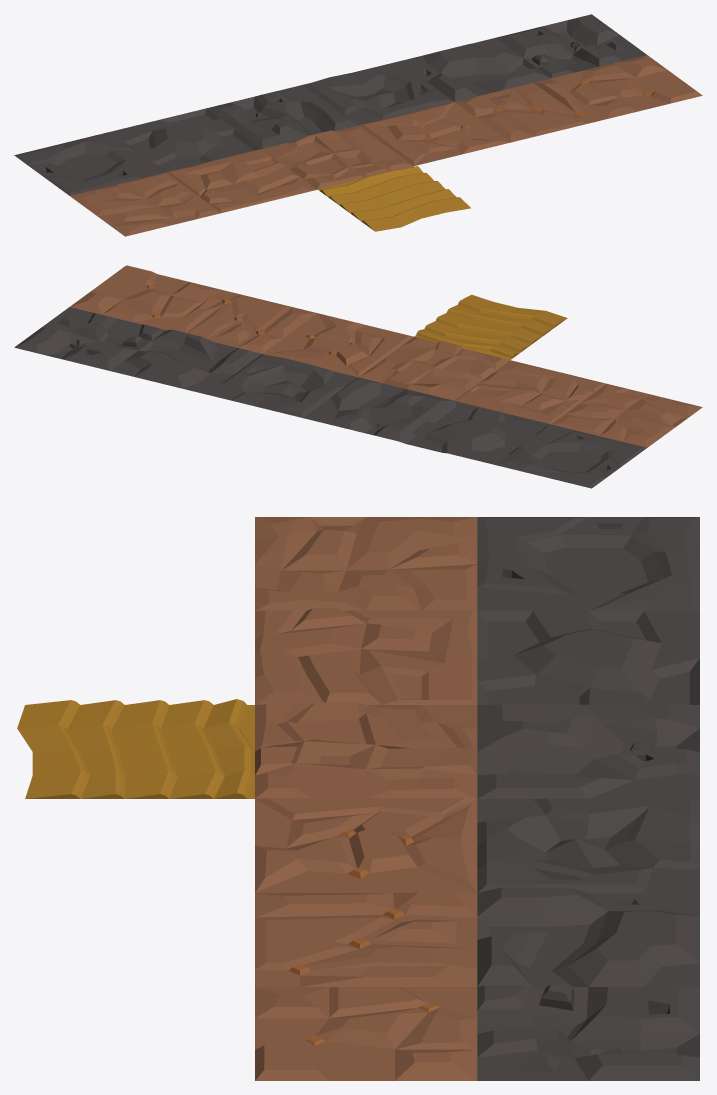
File: DirtRockSandFloors.fbx
3 views of the same model, one above another, from view 1: azimuth 30°, elevation 25°; view 2: azimuth 150°, elevation 25°; view 3: azimuth 270°, elevation 25° (orthographic). The views are drawn at different scales.
Parts seen in each view (by area): view 1: FloorSand01, FloorRock3, FloorDirt2, FloorDirt4, FloorDirt5, FloorRock2, FloorDirt6, FloorRock1, FloorRock6, FloorDirt3, FloorRock5, FloorDirt1 (+1 smaller); view 2: FloorSand01, FloorRock2, FloorRock3, FloorDirt4, FloorRock5, FloorDirt1, FloorRock1, FloorDirt5, FloorRock4, FloorDirt6, FloorRock6, FloorDirt3 (+1 smaller); view 3: FloorSand01, FloorRock2, FloorDirt4, FloorDirt3, FloorRock4, FloorRock1, FloorDirt5, FloorDirt2, FloorDirt1, FloorRock6, FloorRock5, FloorDirt6 (+1 smaller).
Part boxes in pixels (<box>): FloorSand01: <box>318,166,470,231</box>; FloorRock3: <box>303,61,454,125</box>; FloorDirt2: <box>455,78,606,142</box>; FloorDirt4: <box>262,125,413,189</box>; FloorDirt5: <box>166,149,317,212</box>; FloorRock2: <box>399,38,550,101</box>; FloorDirt6: <box>70,172,220,236</box>; FloorRock1: <box>496,14,646,78</box>; FloorRock6: <box>14,132,165,195</box>; FloorDirt3: <box>359,102,509,165</box>; FloorRock5: <box>110,108,261,172</box>; FloorDirt1: <box>551,55,702,118</box>; FloorSand01: <box>414,294,567,359</box>; FloorRock2: <box>110,329,261,394</box>; FloorRock3: <box>207,354,357,417</box>; FloorDirt4: <box>359,336,509,400</box>; FloorRock5: <box>399,401,550,464</box>; FloorDirt1: <box>70,265,220,330</box>; FloorRock1: <box>14,307,165,370</box>; FloorDirt5: <box>455,360,606,424</box>; FloorRock4: <box>303,377,453,441</box>; FloorDirt6: <box>551,384,702,447</box>; FloorRock6: <box>496,424,646,488</box>; FloorDirt3: <box>262,313,413,377</box>; FloorSand01: <box>17,699,254,798</box>; FloorRock2: <box>477,887,699,986</box>; FloorDirt4: <box>255,702,477,798</box>; FloorDirt3: <box>255,798,477,892</box>; FloorRock4: <box>477,704,699,798</box>; FloorRock1: <box>477,984,699,1080</box>; FloorDirt5: <box>255,608,477,704</box>; FloorDirt2: <box>255,892,477,986</box>; FloorDirt1: <box>255,987,477,1080</box>; FloorRock6: <box>477,517,699,610</box>; FloorRock5: <box>477,611,699,704</box>; FloorDirt6: <box>255,517,477,610</box>.
Bounding box in the file's own units: 6 × 0.15 × 3.07.
